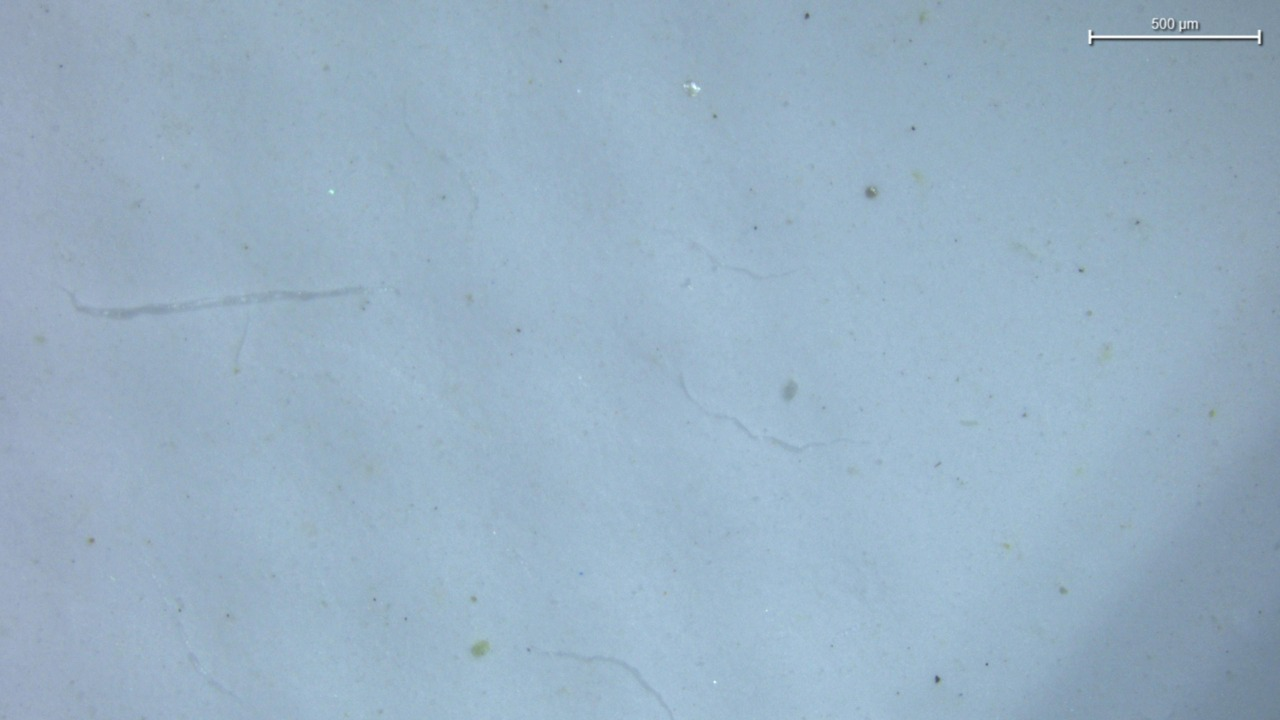microplastic_fragment: (683, 81, 701, 96)
